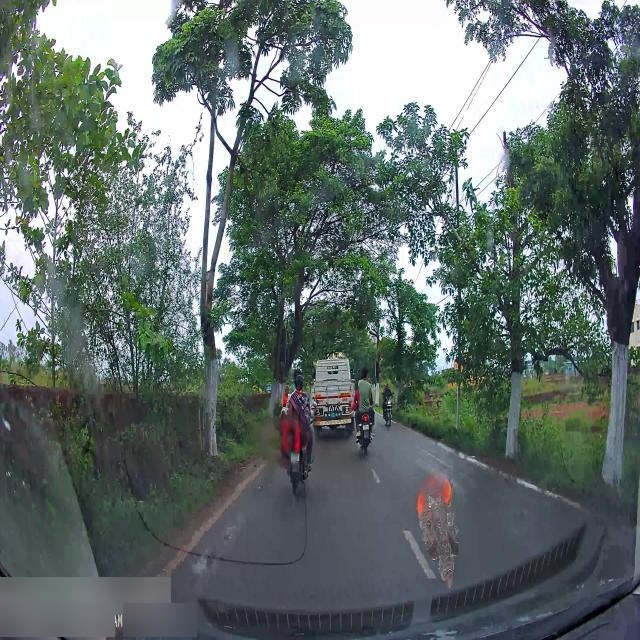pothole: (198, 544, 210, 578), (222, 524, 236, 546)
